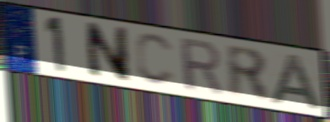1: (43, 14, 68, 75)
A: (269, 52, 325, 113)
C: (133, 32, 177, 89)
N: (83, 20, 132, 84)
R: (223, 42, 273, 105), (177, 36, 226, 98)
